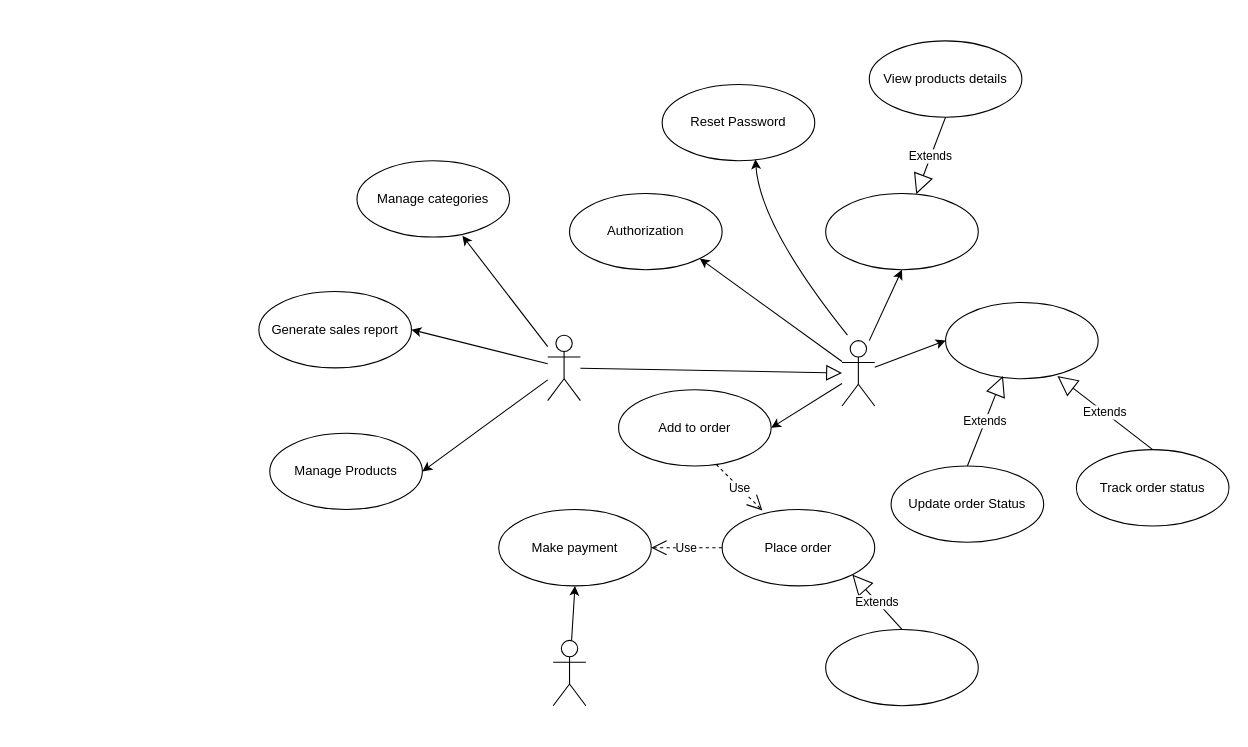
The diagram is 1248 pixels wide and 747 high, and some of its shapes have lost their labels. The box of each missing label's shape, as (x1, y1, x2, y2) in pixels:
Admin: (547, 334, 580, 401)
Apply discount: (825, 628, 978, 706)
Browse Products: (825, 192, 978, 270)
Customer: (841, 340, 875, 406)
Payment service: (552, 639, 586, 706)
View orders: (944, 301, 1098, 379)
